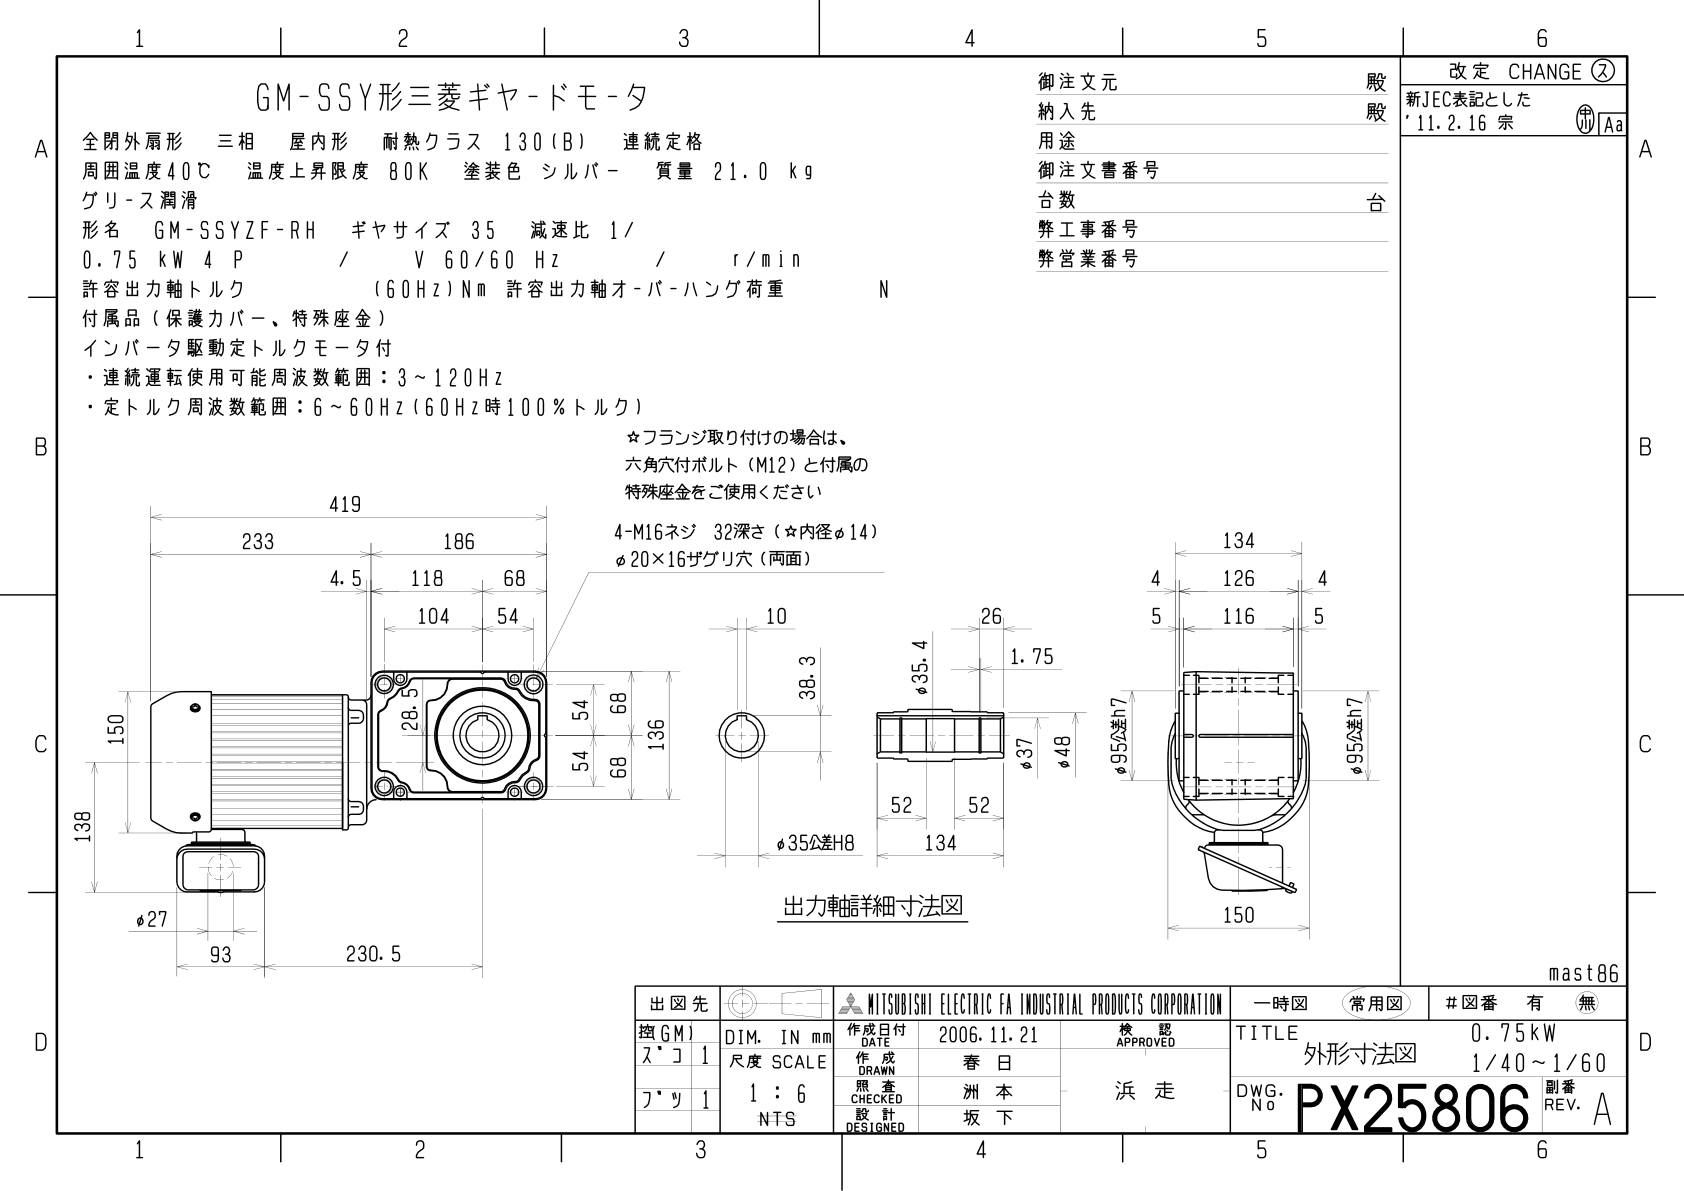GM_SSY_インバータ屋内_三相: (70, 414, 1385, 971)
